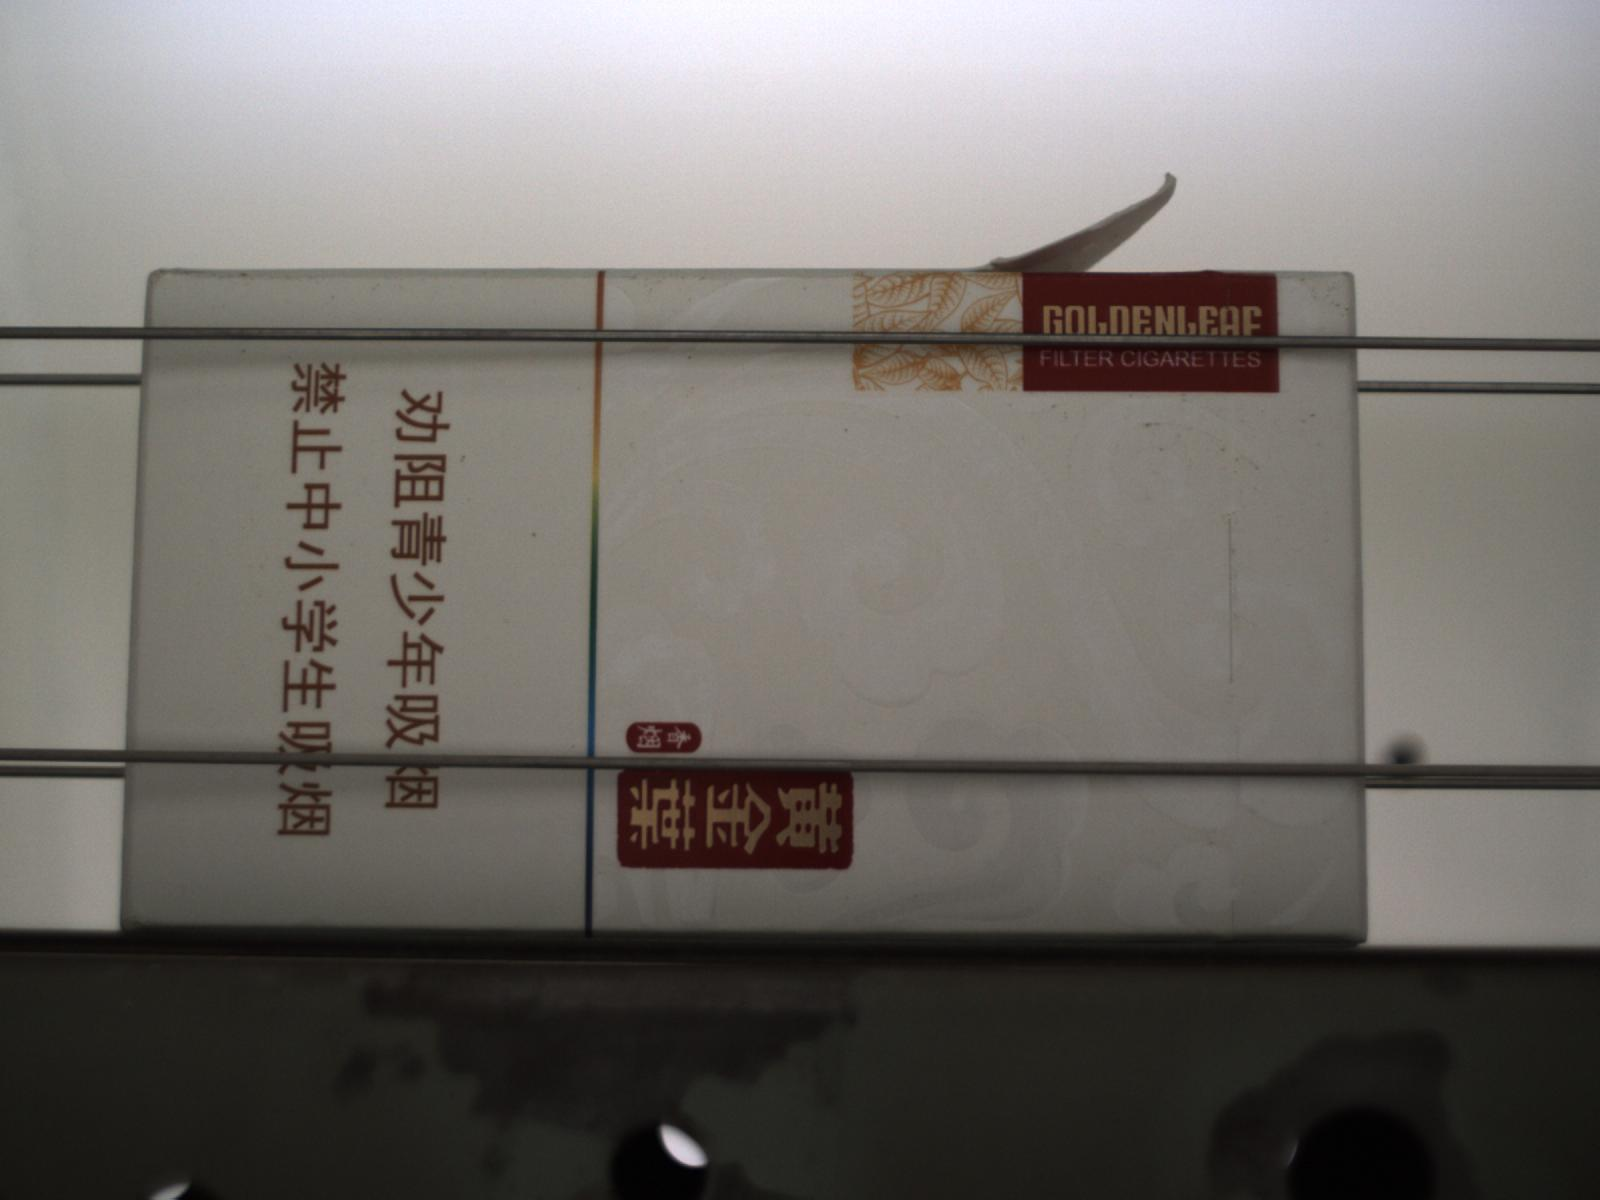dirtySpot: (459, 453, 470, 465), (238, 347, 249, 355), (329, 292, 339, 301), (1157, 445, 1167, 454), (241, 271, 251, 280), (894, 412, 903, 421), (801, 285, 810, 294), (842, 427, 850, 436), (1143, 421, 1153, 429), (687, 353, 694, 362), (530, 529, 538, 538), (1220, 446, 1227, 454), (1254, 465, 1262, 471), (574, 384, 582, 391), (1049, 403, 1057, 410), (569, 742, 576, 749), (1309, 413, 1317, 418), (1335, 303, 1340, 308)
outerFold_upper_01: (973, 171, 1177, 274)
